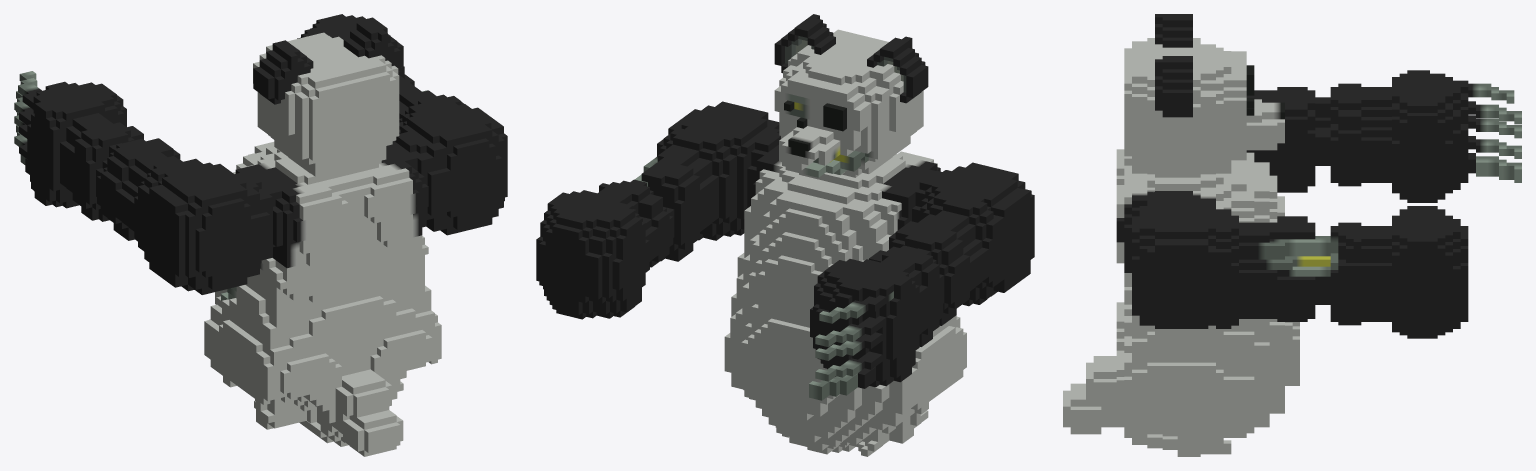
File: Enemy-11-PandaFinal.fbx
3 views of the same model, side by side, from view 1: azimuth 30°, elevation 25°; view 2: azimuth 150°, elevation 25°; view 3: azimuth 270°, elevation 25° (orthographic). The views are drawn at different scales.
Visible parts, largest first — view 1: PandaFinal; view 2: PandaFinal; view 3: PandaFinal.
Boxes of the visible parts, left/top/right/bottom form: PandaFinal: left=14, top=14, right=507, bottom=456; PandaFinal: left=536, top=14, right=1034, bottom=456; PandaFinal: left=1063, top=14, right=1521, bottom=456.
Size of the model in its own units: 53 by 58 by 60.
1 material, 1 textured.
